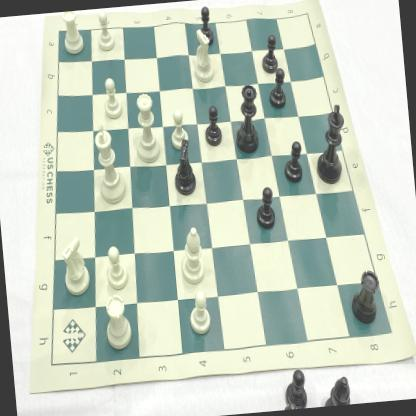black-king: (310, 98, 352, 188)
black-knight: (168, 138, 204, 201)
black-pawn: (250, 182, 279, 234), (280, 138, 307, 188), (199, 102, 227, 150), (265, 66, 292, 115), (191, 3, 218, 48), (256, 31, 282, 76)
black-queen: (228, 78, 268, 157)
black-rook: (344, 265, 386, 329)
white-bishop: (174, 222, 209, 288)
white-king: (89, 120, 130, 207)
white-knight: (56, 227, 94, 299)
white-pawn: (184, 286, 216, 338), (100, 243, 131, 291), (98, 75, 126, 122), (91, 8, 119, 54), (168, 107, 191, 152)
white-queen: (129, 89, 164, 166)
white-rook: (98, 291, 138, 353), (57, 10, 87, 58)
